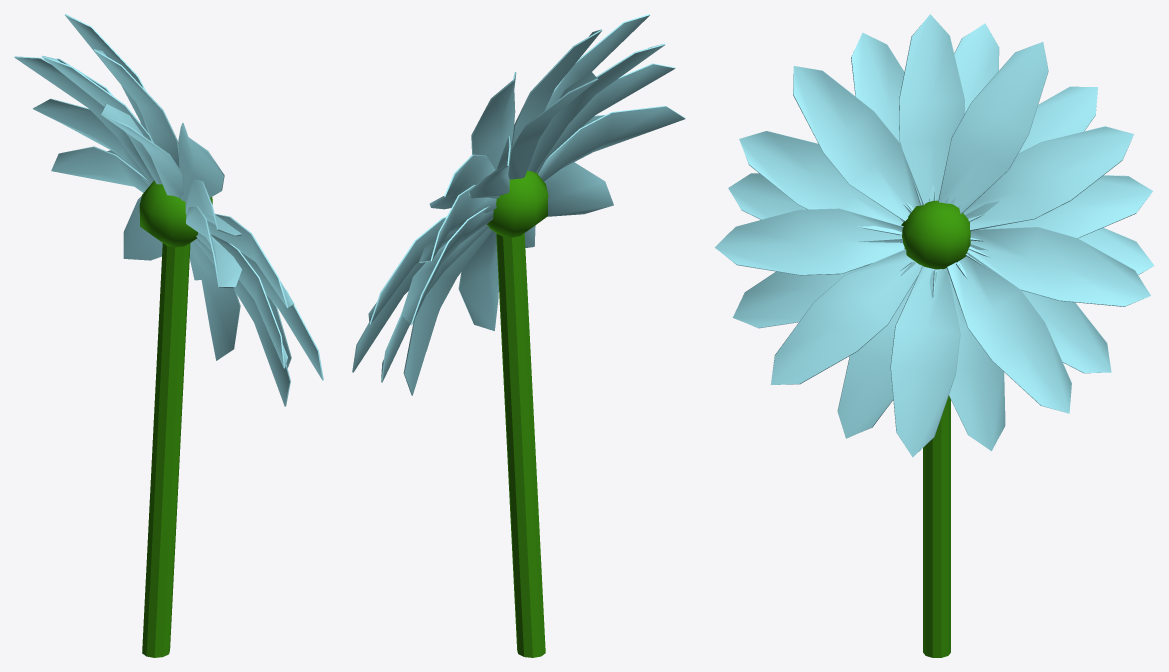
File: Flower_Blue.FBX
3 views of the same model, side by side, from view 1: azimuth 30°, elevation 25°; view 2: azimuth 150°, elevation 25°; view 3: azimuth 270°, elevation 25° (orthographic). The views are drawn at different scales.
Parts seen in each view (by area): view 1: Sphere001, Plane006, Plane001, Plane016, Plane021, Plane019, Plane013, Plane014, Plane010, Plane017, Plane008, Plane011 (+5 smaller); view 2: Sphere001, Plane015, Plane006, Plane008, Plane010, Plane014, Plane018, Plane012, Plane017, Plane001, Plane016, Plane013 (+6 smaller); view 3: Sphere001, Plane018, Plane013, Plane009, Plane007, Plane003, Plane005, Plane011, Plane020, Plane016, Plane012, Plane006 (+9 smaller).
Boxes of the visible parts, bbox=[...] form: Sphere001: bbox=[139, 180, 212, 657]; Plane006: bbox=[190, 240, 240, 360]; Plane001: bbox=[51, 146, 148, 192]; Plane016: bbox=[94, 49, 179, 167]; Plane021: bbox=[33, 98, 151, 185]; Plane019: bbox=[14, 56, 153, 182]; Plane013: bbox=[178, 123, 224, 201]; Plane014: bbox=[101, 104, 184, 198]; Plane010: bbox=[196, 232, 287, 368]; Plane017: bbox=[41, 55, 162, 184]; Plane008: bbox=[194, 238, 290, 406]; Plane011: bbox=[207, 213, 294, 307]; Sphere001: bbox=[486, 171, 548, 657]; Plane015: bbox=[538, 106, 685, 181]; Plane006: bbox=[403, 228, 492, 395]; Plane008: bbox=[458, 231, 498, 330]; Plane010: bbox=[544, 162, 613, 216]; Plane014: bbox=[527, 43, 665, 172]; Plane018: bbox=[471, 72, 516, 169]; Plane012: bbox=[536, 63, 675, 173]; Plane017: bbox=[508, 72, 598, 179]; Plane001: bbox=[401, 206, 493, 325]; Plane016: bbox=[511, 29, 602, 146]; Plane013: bbox=[545, 14, 649, 109]; Sphere001: bbox=[901, 200, 970, 657]; Plane018: bbox=[938, 42, 1048, 214]; Plane013: bbox=[793, 66, 924, 221]; Plane009: bbox=[771, 249, 921, 384]; Plane007: bbox=[890, 266, 960, 457]; Plane003: bbox=[946, 252, 1071, 413]; Plane005: bbox=[965, 227, 1150, 306]; Plane011: bbox=[714, 208, 904, 275]; Plane020: bbox=[958, 126, 1133, 230]; Plane016: bbox=[899, 14, 964, 204]; Plane012: bbox=[739, 131, 911, 235]; Plane006: bbox=[932, 264, 1005, 451].
Bounding box in the file's own units: 74.1 × 211 × 138.
